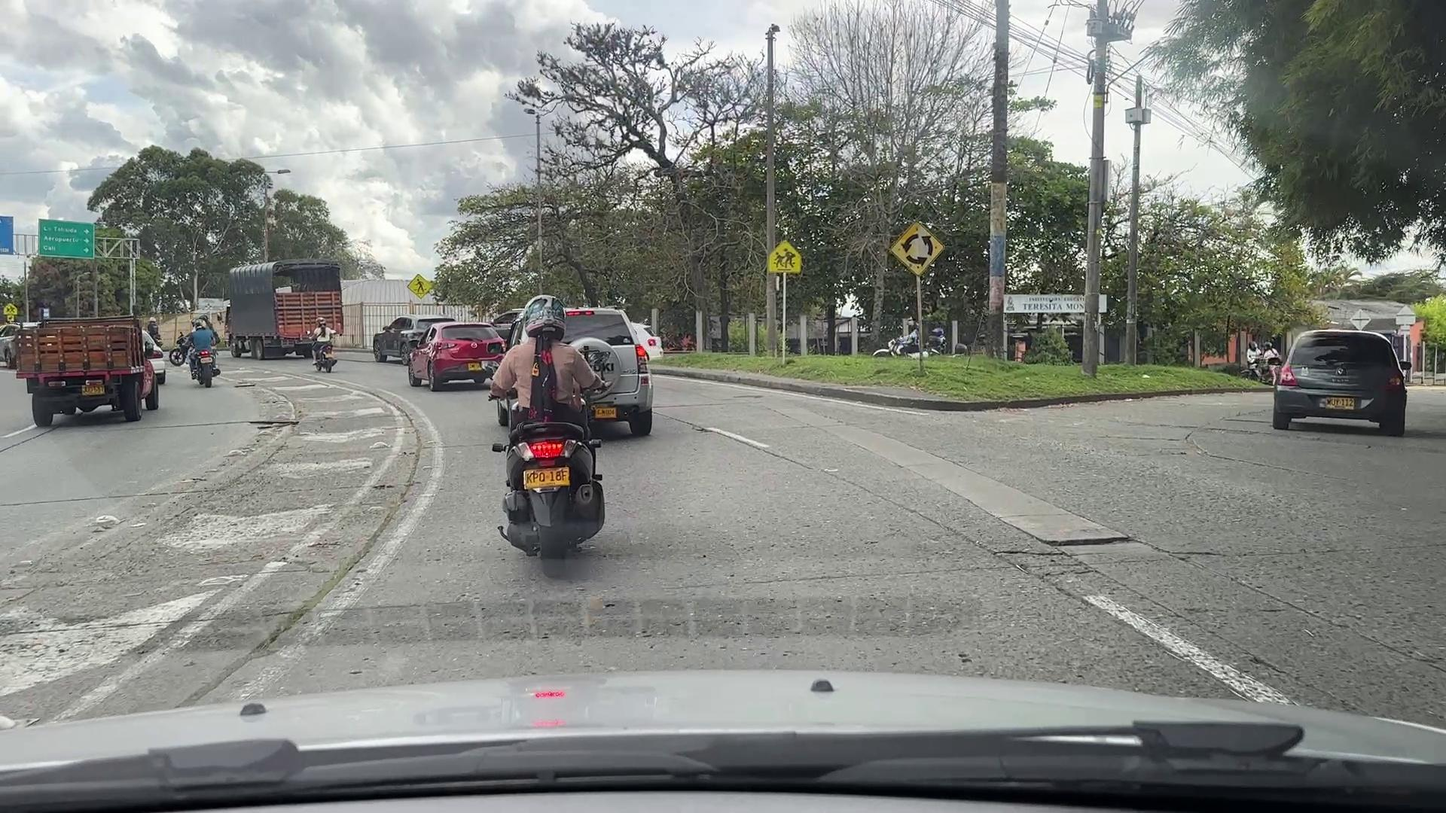bache: (1047, 536, 1142, 546)
grieta: (993, 550, 1093, 558)
